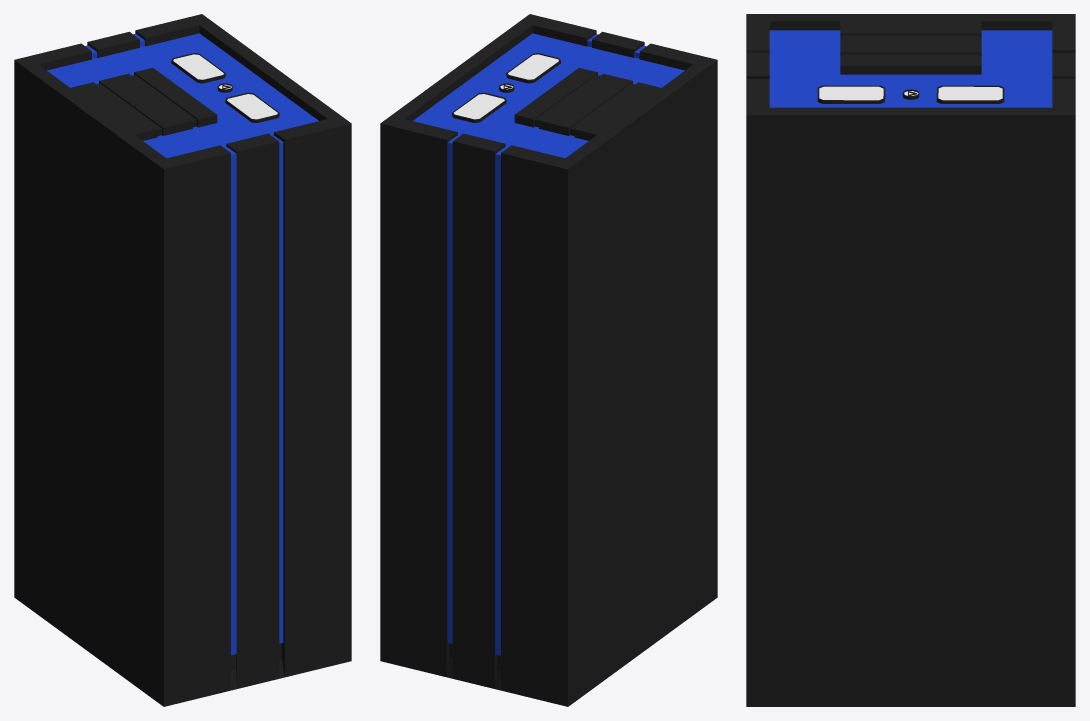
The model's file is Table.fbx.
3 views of the same model, side by side, from view 1: azimuth 30°, elevation 25°; view 2: azimuth 150°, elevation 25°; view 3: azimuth 270°, elevation 25° (orthographic). The views are drawn at different scales.
Parts seen in each view (by area): view 1: Куб.285, Плоскость, Куб.139, Куб.140; view 2: Куб.285, Плоскость, Куб.140, Куб.139; view 3: Куб.285, Плоскость, Куб.139, Куб.140.
Part boxes in pixels (left/top/right/bottom): Куб.285: left=14, top=14, right=351, bottom=706; Плоскость: left=47, top=33, right=318, bottom=655; Куб.139: left=227, top=94, right=277, bottom=119; Куб.140: left=173, top=54, right=223, bottom=79; Куб.285: left=380, top=14, right=717, bottom=706; Плоскость: left=413, top=33, right=684, bottom=655; Куб.140: left=454, top=94, right=504, bottom=119; Куб.139: left=508, top=54, right=558, bottom=79; Куб.285: left=746, top=14, right=1075, bottom=706; Плоскость: left=769, top=30, right=1052, bottom=107; Куб.139: left=819, top=86, right=883, bottom=100; Куб.140: left=938, top=86, right=1002, bottom=100.
Bounding box in the file's own units: 461 × 1259 × 635.
